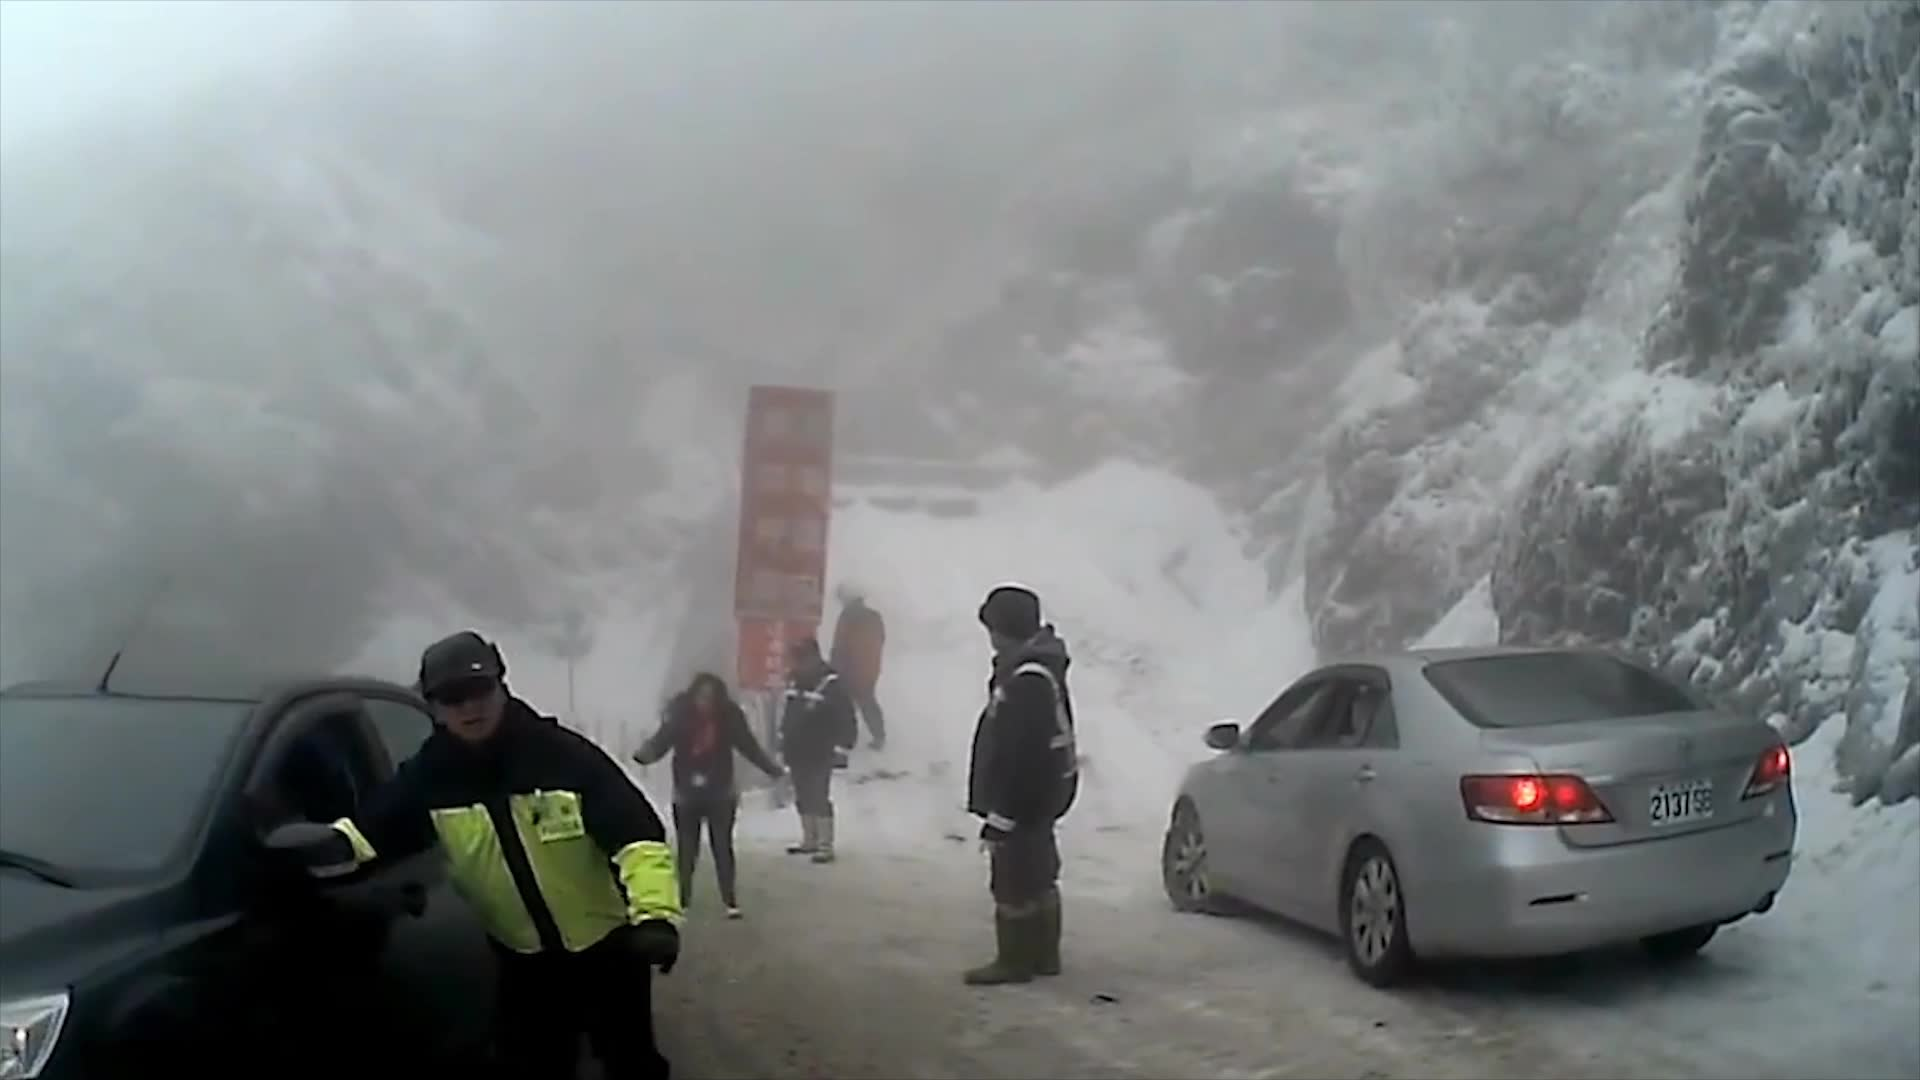pedestrian: (290, 631, 702, 1080), (953, 585, 1084, 984), (634, 671, 784, 926), (391, 646, 512, 923), (781, 641, 858, 864), (829, 577, 889, 746)
vehicle: (0, 667, 573, 1080), (1159, 638, 1798, 985)
